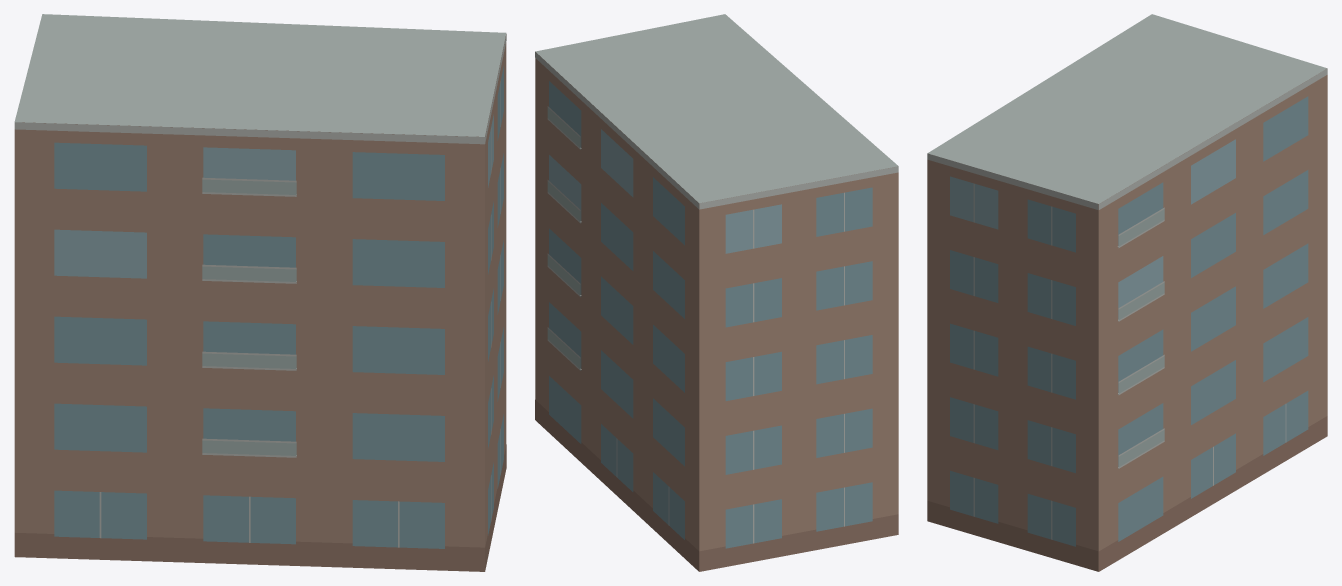
The model's file is survey-upis-32985057.glb.
The picture shows the model from 3 angles, left to right: view 1: azimuth 30°, elevation 25°; view 2: azimuth 150°, elevation 25°; view 3: azimuth 270°, elevation 25°; orthographic projection. The views are drawn at different scales.
Visible parts, largest first — view 1: survey-upis-32985057.tmp; view 2: survey-upis-32985057.tmp; view 3: survey-upis-32985057.tmp.
Boxes of the visible parts, left/top/right/bottom form: survey-upis-32985057.tmp: left=14, top=14, right=506, bottom=571; survey-upis-32985057.tmp: left=535, top=14, right=898, bottom=571; survey-upis-32985057.tmp: left=927, top=14, right=1327, bottom=571.
Bounding box in the file's own units: 16.02 × 14.45 × 14.26.
